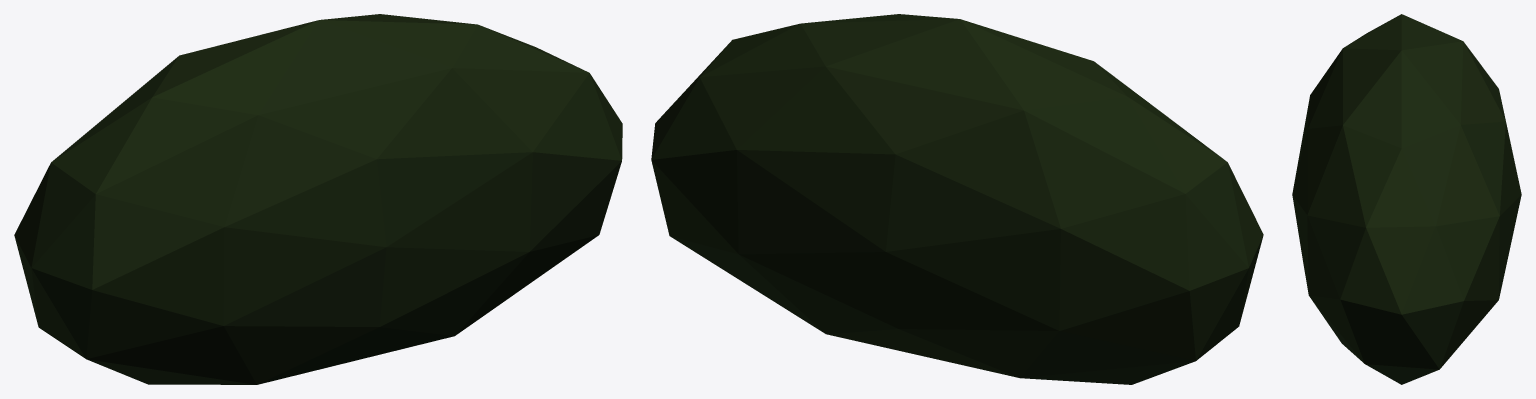
The model's file is 1992-Low-poly-plant-models-hedge.glb.
3 views of the same model, side by side, from view 1: azimuth 30°, elevation 25°; view 2: azimuth 150°, elevation 25°; view 3: azimuth 270°, elevation 25° (orthographic). The views are drawn at different scales.
Parts seen in each view (by area): view 1: Low-poly plant models/hedge; view 2: Low-poly plant models/hedge; view 3: Low-poly plant models/hedge.
Part boxes in pixels (bbox=[...]): Low-poly plant models/hedge: bbox=[14, 14, 622, 384]; Low-poly plant models/hedge: bbox=[651, 14, 1263, 384]; Low-poly plant models/hedge: bbox=[1292, 14, 1521, 384].
Bounding box in the file's own units: 0.8873 × 0.4922 × 0.3676.
